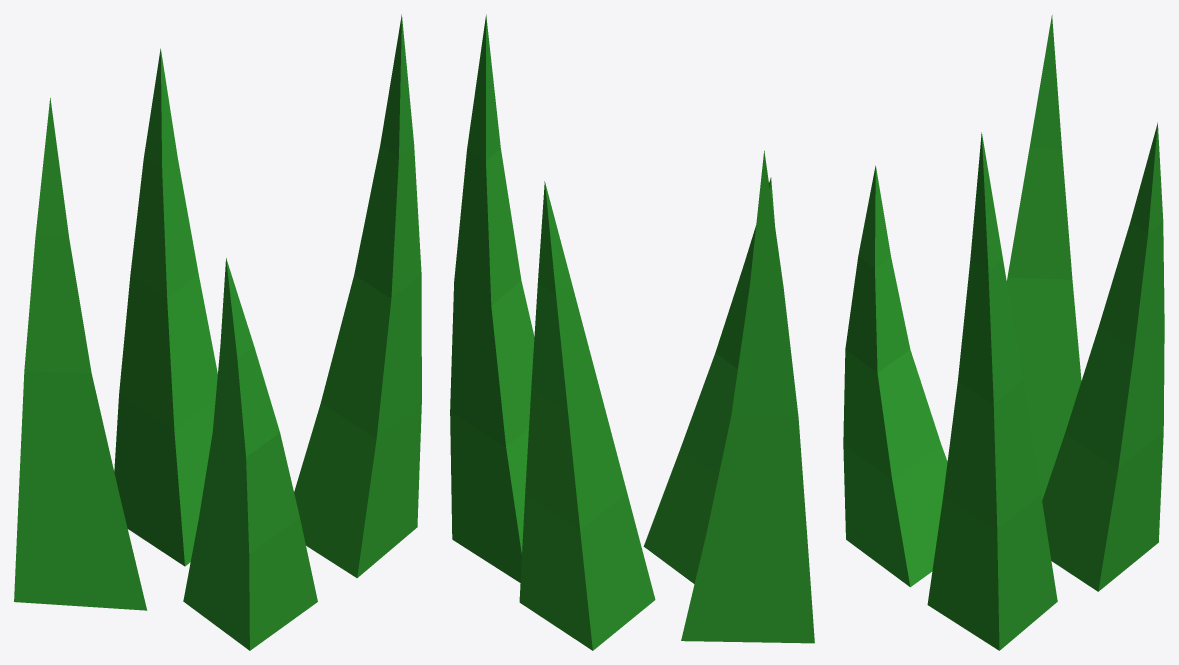
File: Grass1.glb
3 renders of one model, left to right at view 1: azimuth 30°, elevation 25°; view 2: azimuth 150°, elevation 25°; view 3: azimuth 270°, elevation 25°, orthographic. The views are drawn at different scales.
Visible parts, largest first — view 1: Cylinder.001; view 2: Cylinder.001; view 3: Cylinder.001.
Part boxes in pixels (bbox=[...]): Cylinder.001: bbox=[14, 14, 421, 650]; Cylinder.001: bbox=[450, 14, 814, 650]; Cylinder.001: bbox=[843, 15, 1164, 650].
Size of the model in its own units: 1.12 by 1.46 by 0.8312.
